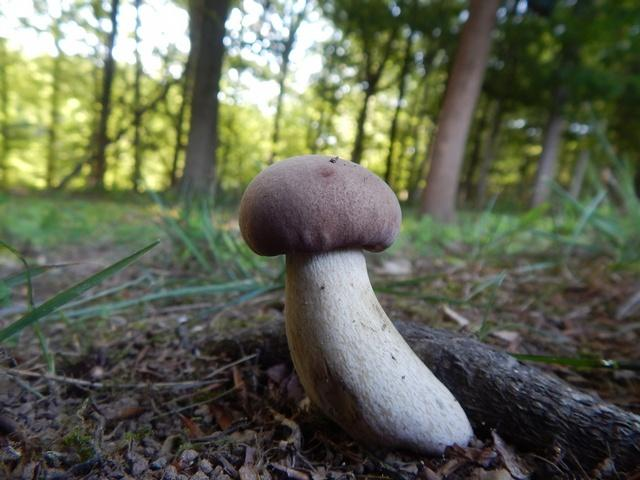poisonous_mushroom: (236, 152, 476, 456)
